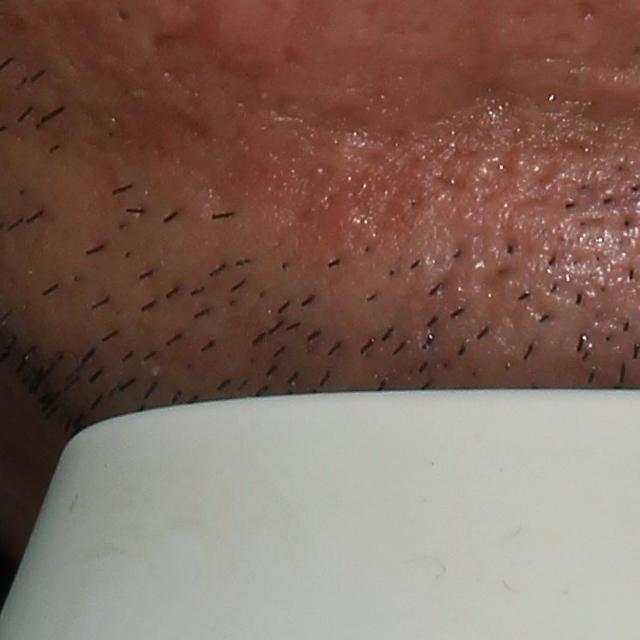atrophic_scar: (452, 80, 544, 147), (303, 102, 374, 150)
papule: (307, 194, 380, 256)
